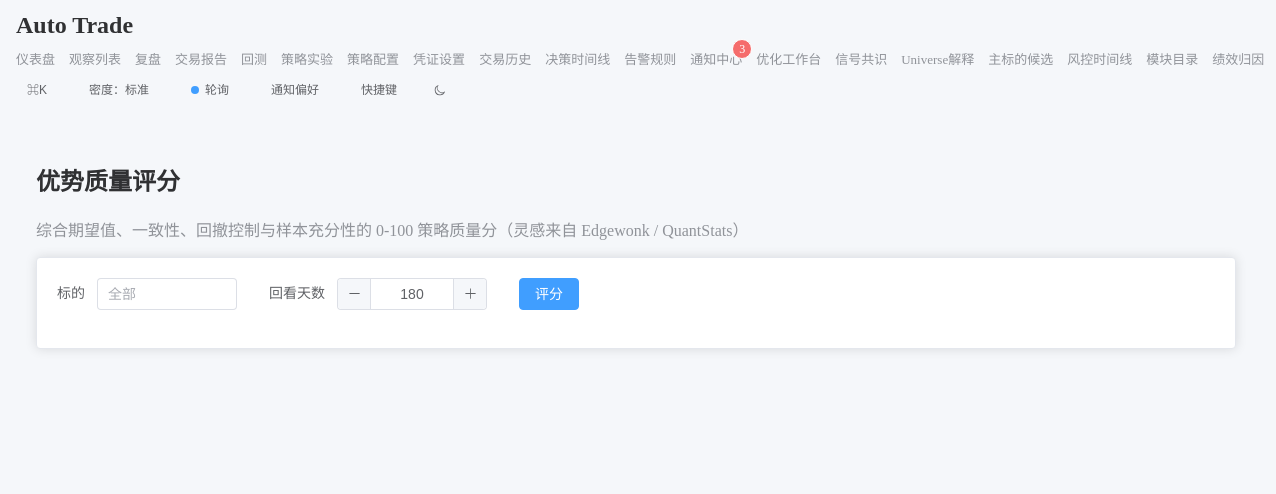
Test: Analytics panels expose FIFO evidence quality › edge-quality surfaces unresolved ledger evidence
Click the button "评分" at (549, 294), box [519,278,579,310]
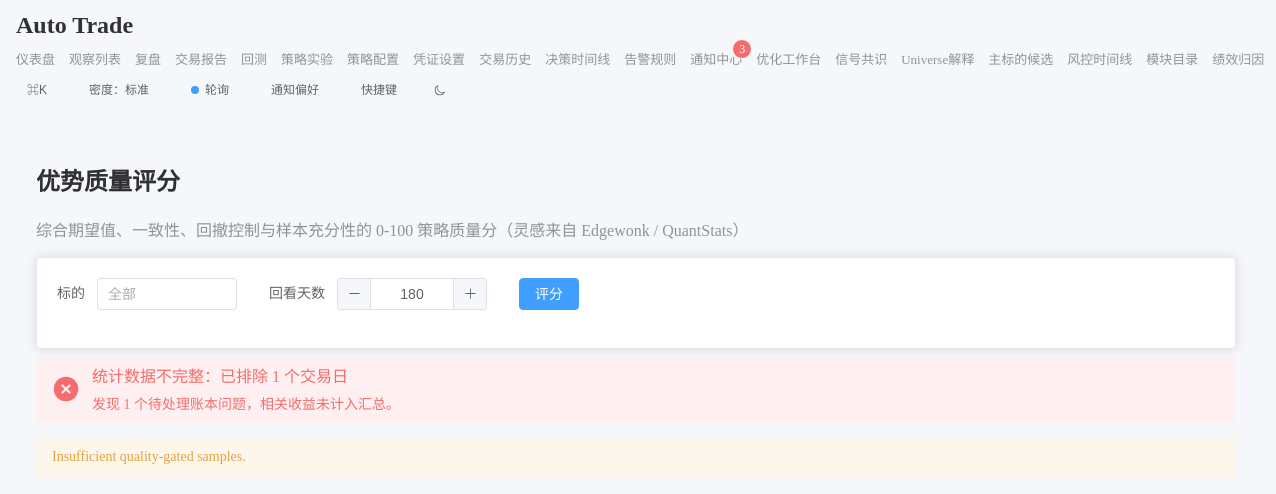
Now the text with test id "statistics-quality-alert" shows "已排除 1 个交易日", box [92,368,348,385]
